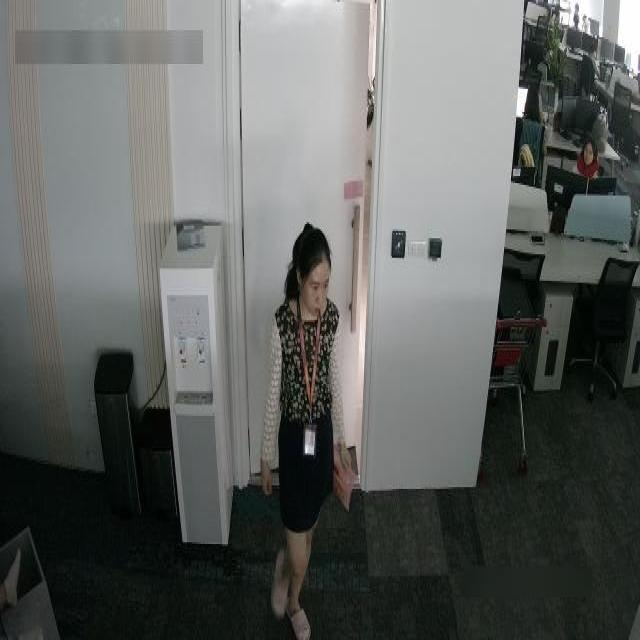bare_hand: (252, 443, 286, 508)
